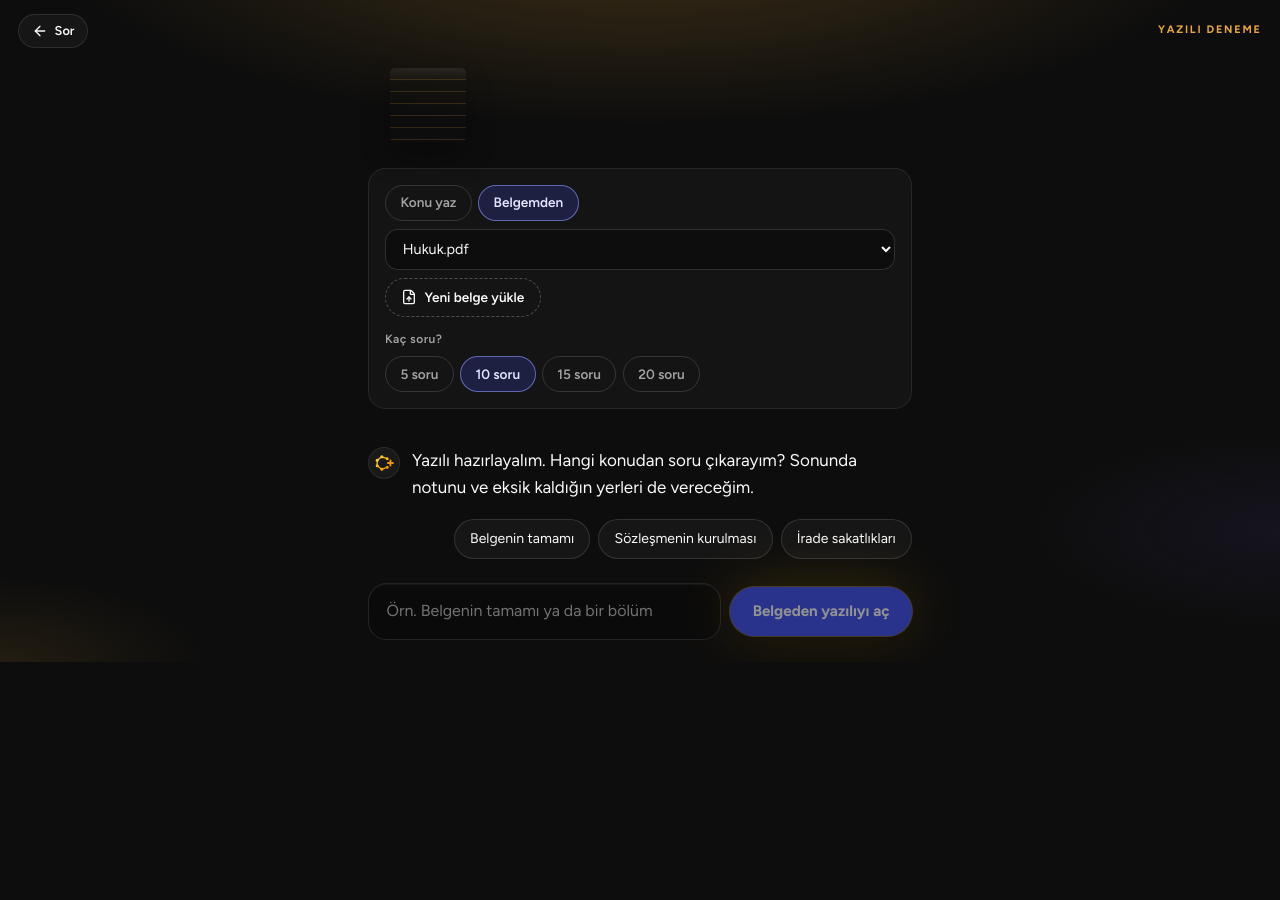
Scenario: yazılı deneme aracı belgeden › belge seçici, belgenin konuları ve sayı isteğe gider
Check: the button "Yeni belge yükle" is shown, box [385,278,540,316]
Check: the button "İrade sakatlıkları" is shown, box [781,519,912,559]
Click the button "15 soru" at (579, 374), box [542,356,616,392]
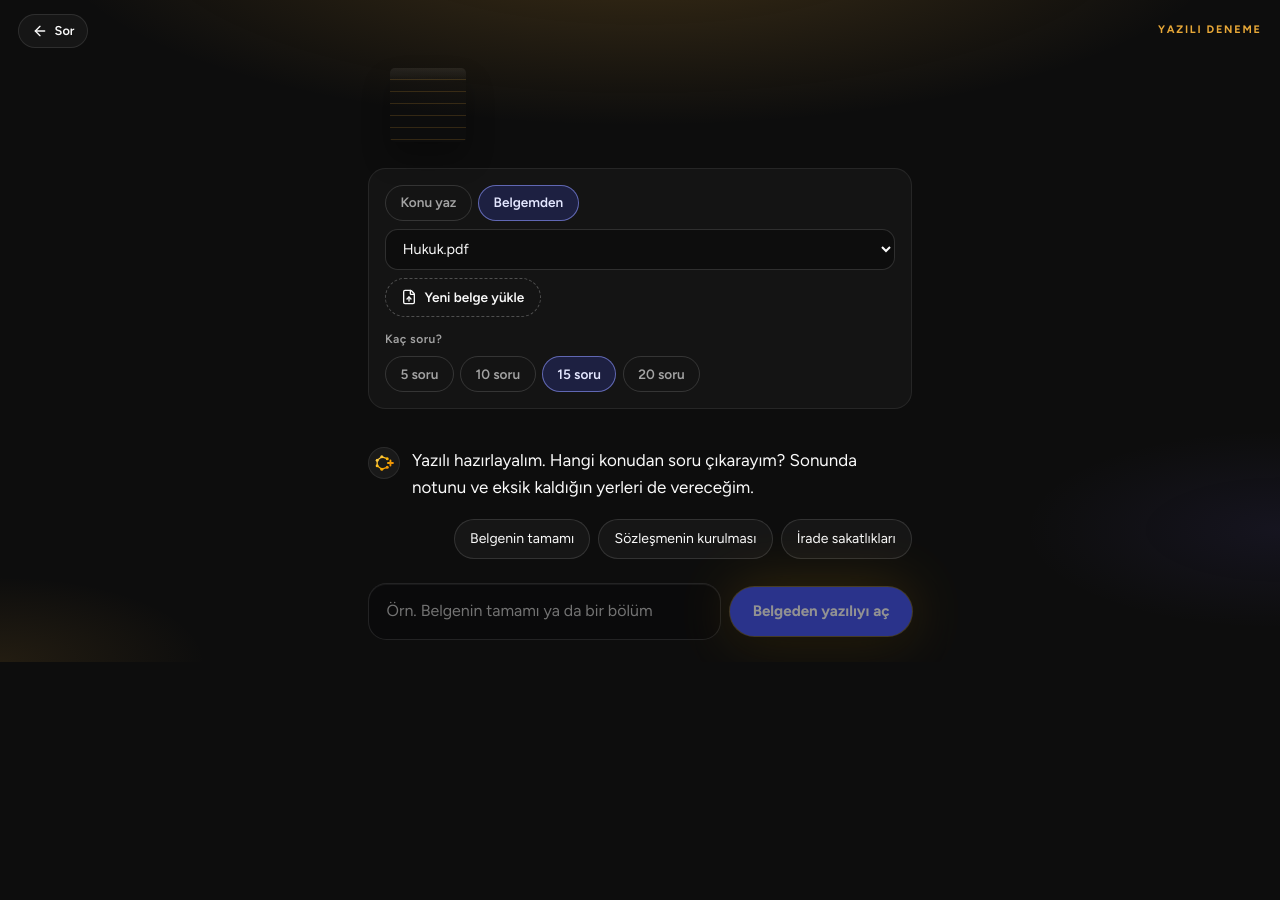
Click the button "Belgenin tamamı" at (522, 539), box [454,519,590,559]
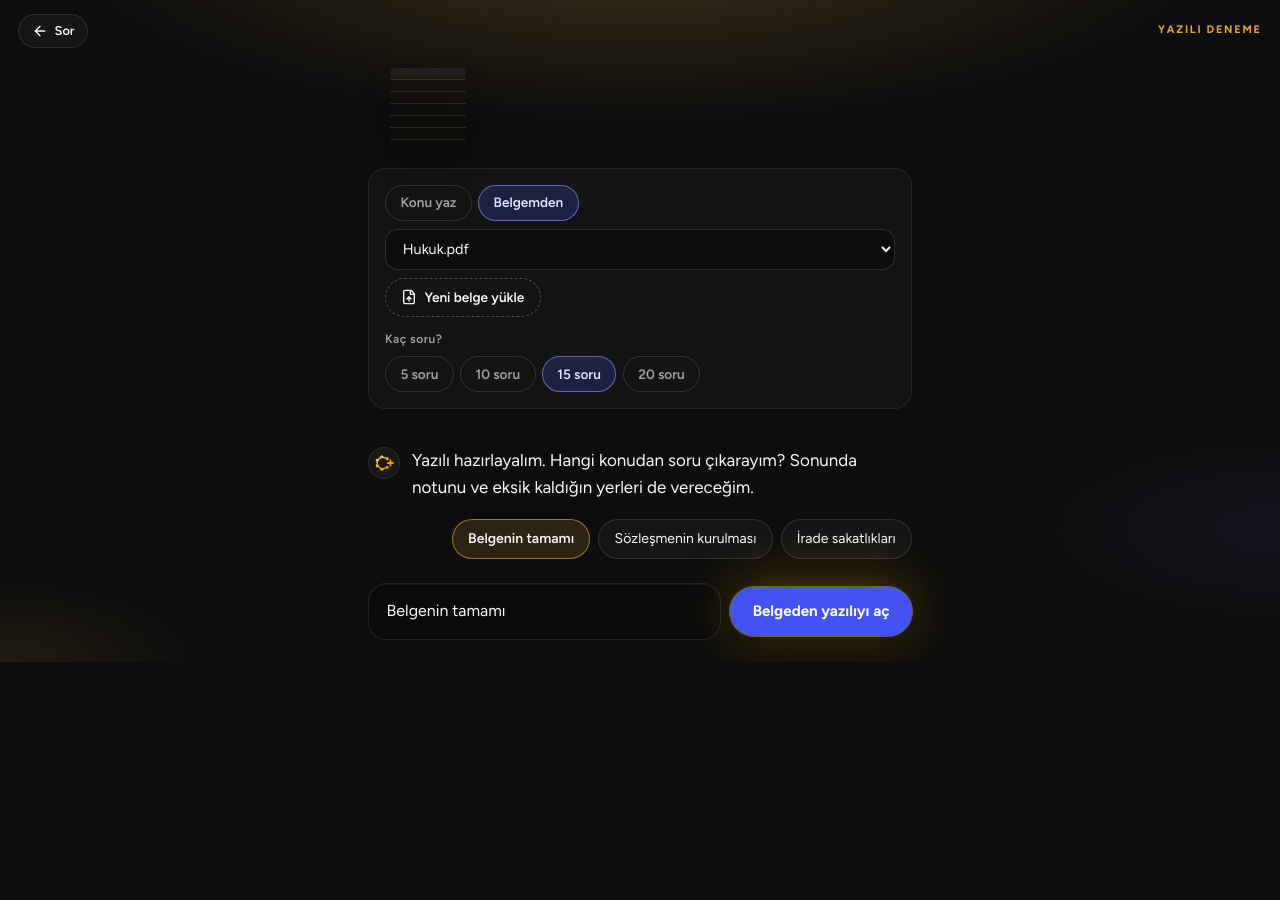
Click the button "Belgeden yazılıyı aç" at (821, 611), box [730,587,912,636]
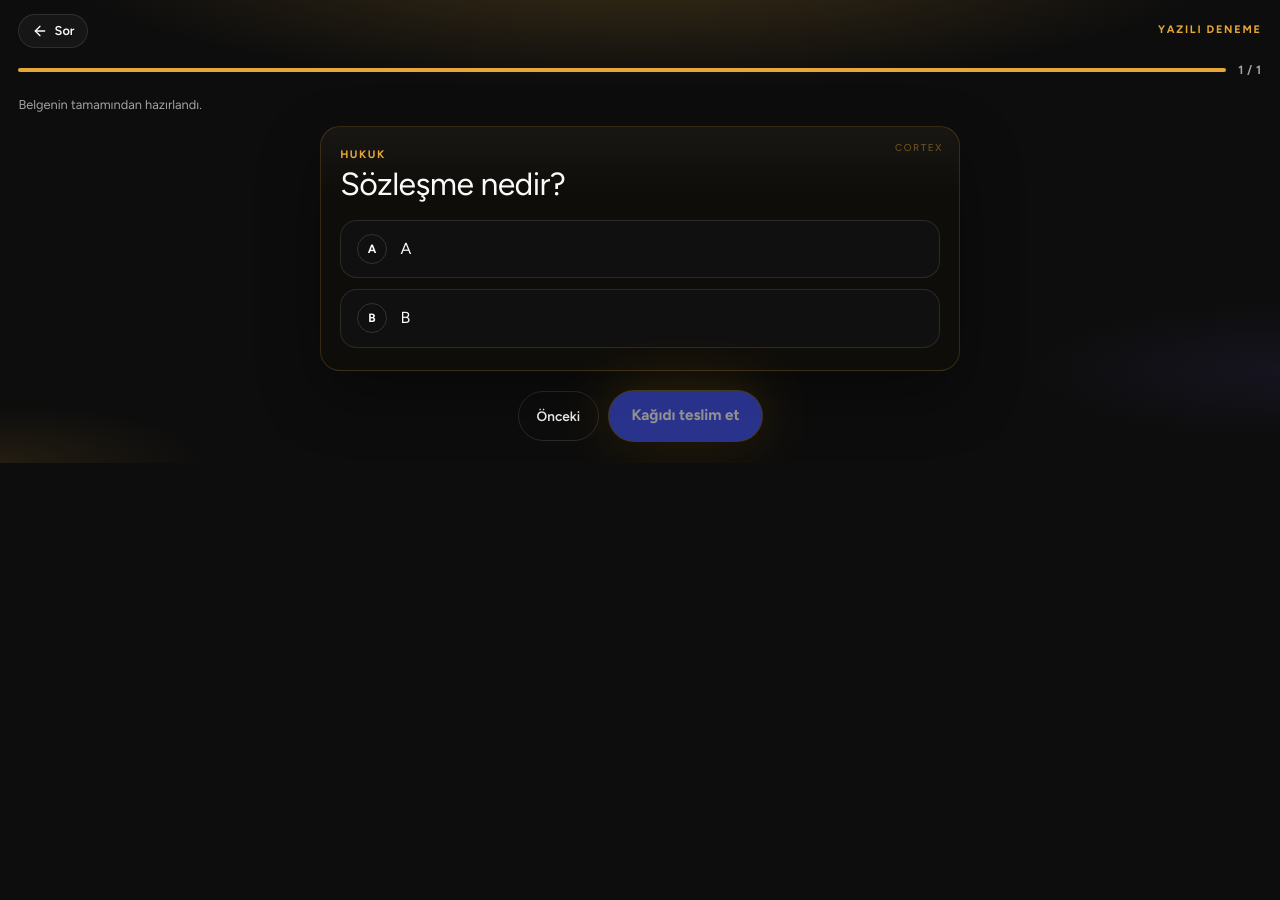
Check: the text "Belgenin tamamından hazırlandı." is shown, box [18,97,202,112]
